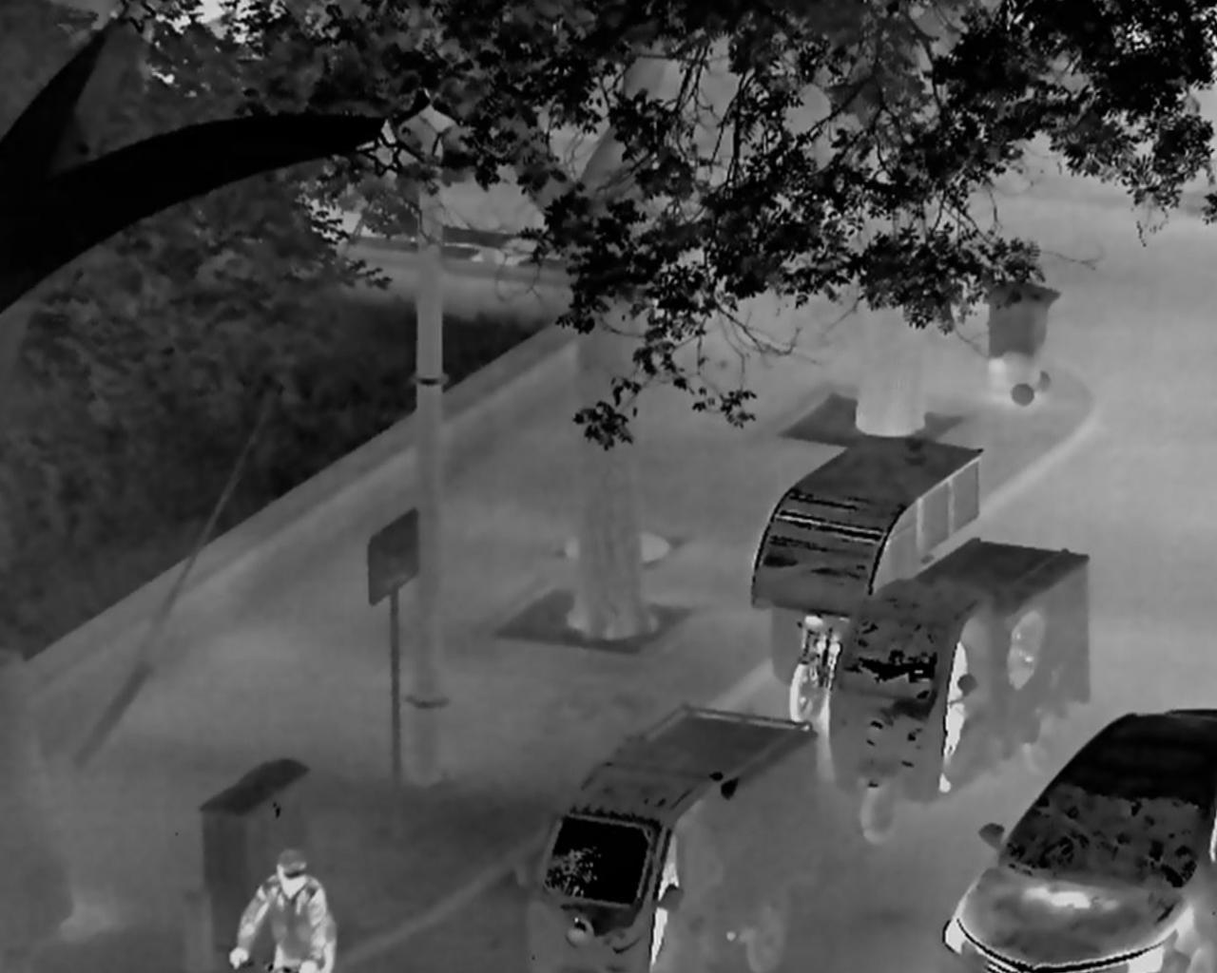person: (229, 847, 339, 973), (937, 639, 967, 792), (648, 832, 680, 973)
